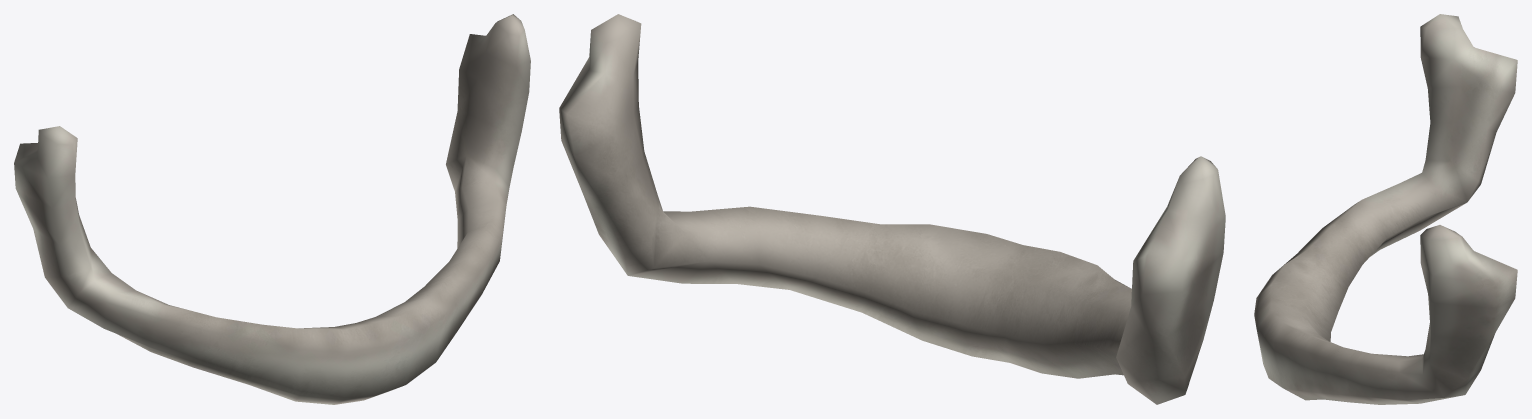
File: jaw.FBX
3 renders of one model, left to right at view 1: azimuth 30°, elevation 25°; view 2: azimuth 150°, elevation 25°; view 3: azimuth 270°, elevation 25°, orthographic. The views are drawn at different scales.
Parts seen in each view (by area): view 1: Jaw; view 2: Jaw; view 3: Jaw.
Part boxes in pixels (left/top/right/bottom): Jaw: left=14, top=14, right=530, bottom=404; Jaw: left=559, top=14, right=1225, bottom=404; Jaw: left=1254, top=14, right=1517, bottom=404.
Size of the model in its own units: 39.06 by 21.01 by 19.26.
1 material, 1 textured.
